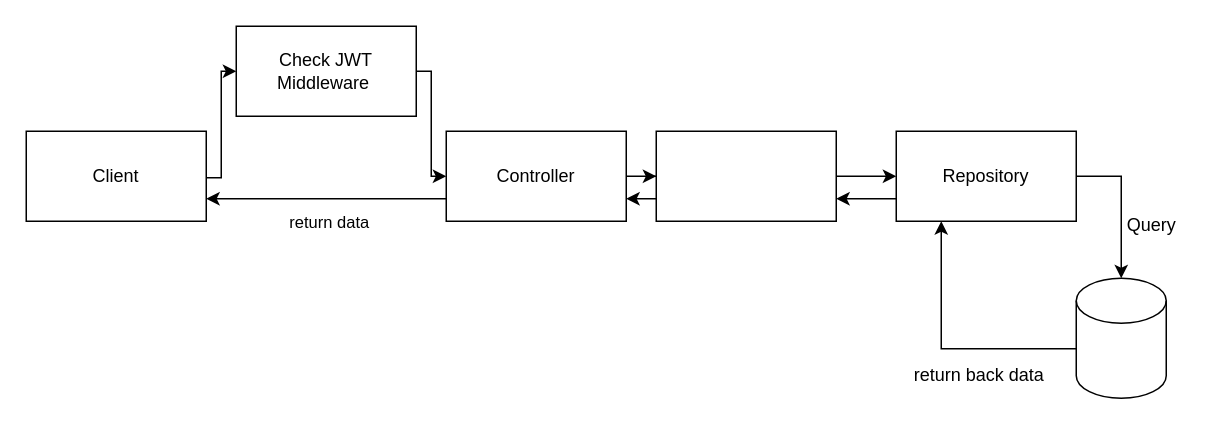
Some shapes in this 1223 by 425 pixel diagram are drawn without their labels. The shapes that lost their labels are listed below. From the top down, each one's box as (x1, y1, x2, y2) in pixels, then its label:
(655, 130, 836, 221): Service
(1075, 277, 1166, 398): MYSQL DB
